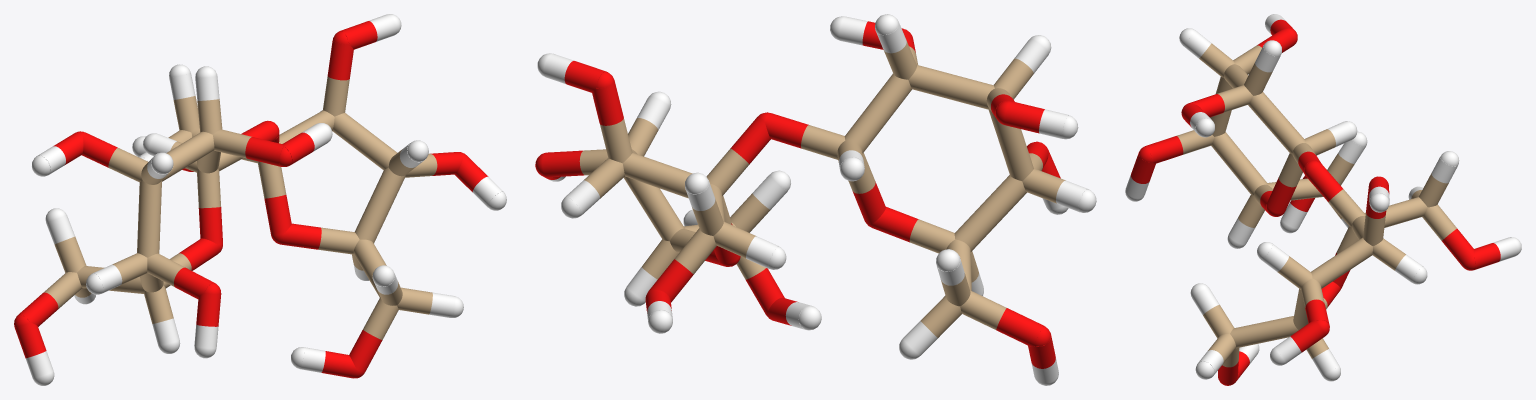
The model's file is sucrose.dae.
The picture shows the model from 3 angles, left to right: view 1: azimuth 30°, elevation 25°; view 2: azimuth 150°, elevation 25°; view 3: azimuth 270°, elevation 25°; orthographic projection. The views are drawn at different scales.
Visible parts, largest first — view 1: subnode_94, subnode_106, subnode_91, subnode_103, subnode_45, subnode_48, subnode_54, subnode_57, subnode_47, subnode_82, subnode_58, subnode_65 (+41 smaller); view 2: subnode_109, subnode_100, subnode_103, subnode_89, subnode_94, subnode_106, subnode_85, subnode_78, subnode_86, subnode_50, subnode_56, subnode_52 (+41 smaller); view 3: subnode_109, subnode_100, subnode_91, subnode_97, subnode_90, subnode_49, subnode_73, subnode_77, subnode_50, subnode_78, subnode_63, subnode_53 (+39 smaller).
Boxes of the visible parts, x1=… form: subnode_94: x1=355, y1=167, x2=405, y2=243; subnode_106: x1=137, y1=180, x2=161, y2=257; subnode_91: x1=332, y1=113, x2=397, y2=170; subnode_103: x1=162, y1=131, x2=214, y2=181; subnode_45: x1=264, y1=195, x2=291, y2=235; subnode_48: x1=318, y1=227, x2=359, y2=254; subnode_54: x1=197, y1=169, x2=220, y2=208; subnode_57: x1=327, y1=40, x2=353, y2=80; subnode_47: x1=281, y1=223, x2=321, y2=249; subnode_82: x1=363, y1=297, x2=398, y2=339; subnode_58: x1=322, y1=76, x2=349, y2=116; subnode_65: x1=245, y1=137, x2=283, y2=166; subnode_109: x1=954, y1=175, x2=1026, y2=251; subnode_100: x1=844, y1=73, x2=911, y2=152; subnode_103: x1=908, y1=65, x2=994, y2=109; subnode_89: x1=622, y1=153, x2=692, y2=198; subnode_94: x1=623, y1=176, x2=684, y2=241; subnode_106: x1=988, y1=109, x2=1033, y2=180; subnode_85: x1=996, y1=308, x2=1043, y2=346; subnode_78: x1=674, y1=228, x2=716, y2=274; subnode_86: x1=960, y1=290, x2=1006, y2=329; subnode_50: x1=706, y1=148, x2=749, y2=195; subnode_56: x1=909, y1=219, x2=955, y2=253; subnode_52: x1=801, y1=125, x2=845, y2=159; subnode_109: x1=1211, y1=132, x2=1267, y2=195; subnode_100: x1=1248, y1=92, x2=1305, y2=154; subnode_91: x1=1311, y1=237, x2=1372, y2=288; subnode_97: x1=1230, y1=316, x2=1298, y2=348; subnode_90: x1=1364, y1=197, x2=1427, y2=227; subnode_49: x1=1306, y1=163, x2=1342, y2=201; subnode_73: x1=1145, y1=136, x2=1183, y2=163; subnode_77: x1=1442, y1=228, x2=1474, y2=266; subnode_50: x1=1328, y1=189, x2=1365, y2=226; subnode_78: x1=1422, y1=204, x2=1456, y2=240; subnode_63: x1=1290, y1=321, x2=1325, y2=352; subnode_53: x1=1267, y1=177, x2=1296, y2=213.
Size of the model in its own units: 9.78 by 6.34 by 7.87.
